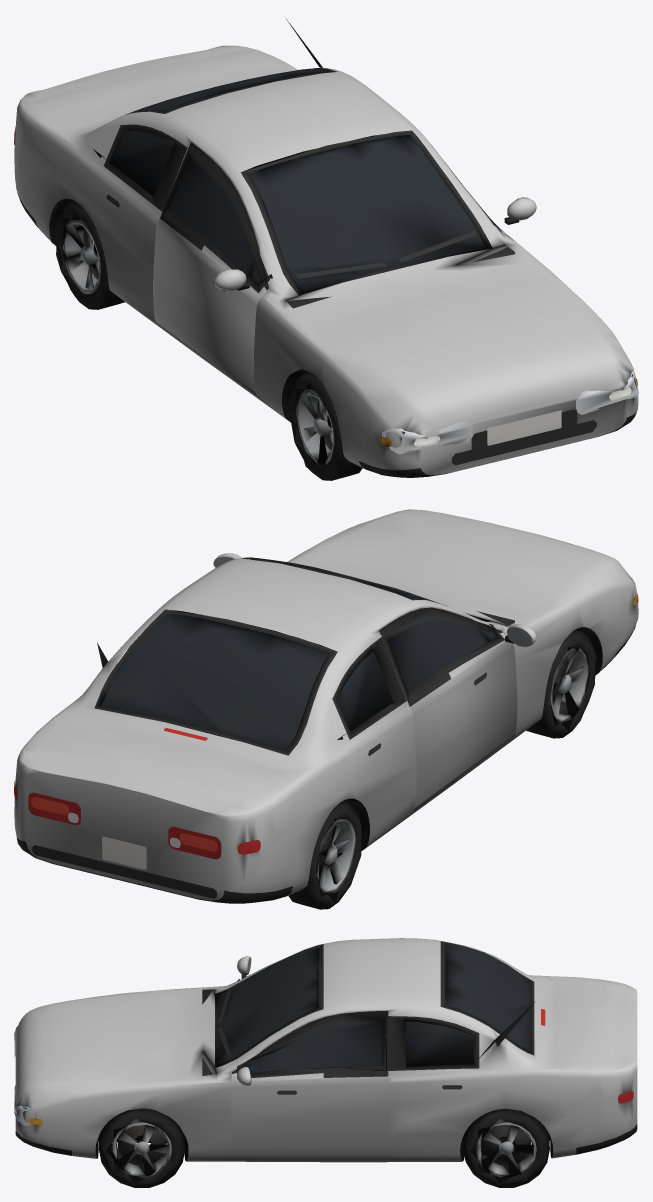
File: car-sedan-lo-v2.glb
3 views of the same model, one above another, from view 1: azimuth 30°, elevation 25°; view 2: azimuth 150°, elevation 25°; view 3: azimuth 270°, elevation 25° (orthographic). The views are drawn at different scales.
Parts seen in each view (by area): view 1: body, door_R, wheel_FR, wheel_RR, door_L; view 2: body, door_R, wheel_RR, wheel_FR; view 3: body, door_L, wheel_FL, wheel_RL.
Boxes of the visible parts, bbox=[...] form: body: bbox=[14, 19, 638, 477]; door_R: bbox=[153, 142, 269, 395]; wheel_FR: bbox=[288, 372, 362, 480]; wheel_RR: bbox=[55, 201, 124, 309]; door_L: bbox=[415, 134, 536, 237]; body: bbox=[14, 509, 638, 903]; door_R: bbox=[379, 607, 536, 810]; wheel_RR: bbox=[288, 801, 361, 909]; wheel_FR: bbox=[526, 629, 596, 738]; body: bbox=[14, 938, 637, 1162]; door_L: bbox=[231, 1011, 388, 1158]; wheel_FL: bbox=[99, 1108, 185, 1187]; wheel_RL: bbox=[463, 1108, 549, 1187].
Size of the model in its own units: 2.23 by 1.5 by 4.83.
